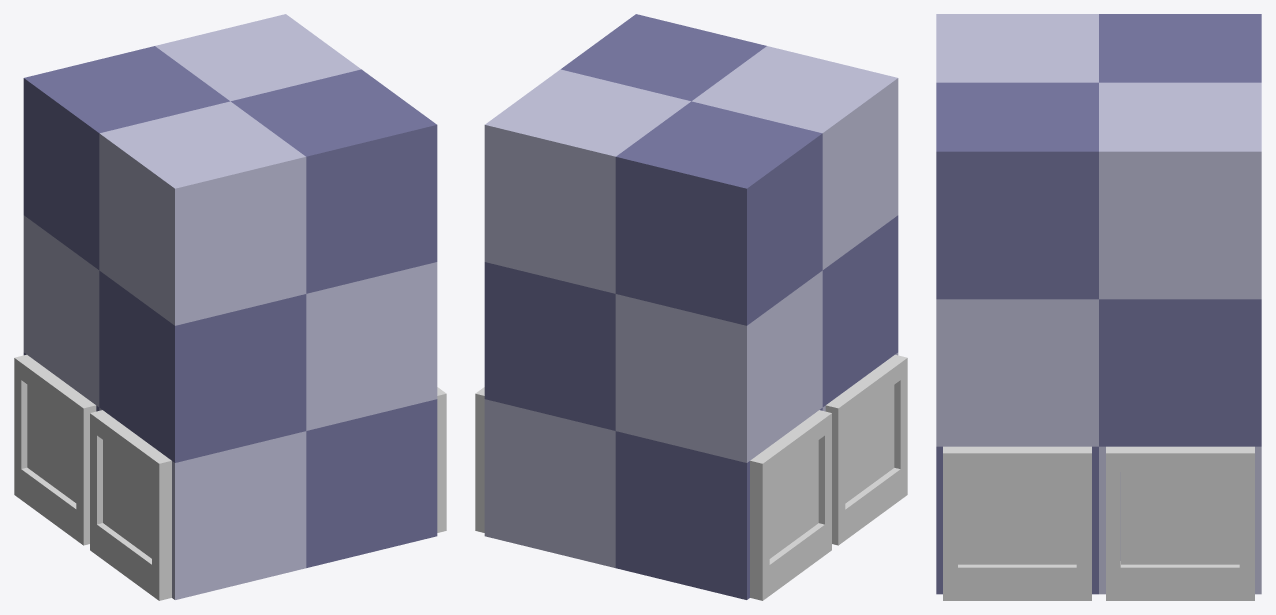
The model's file is unitmini.fbx.
3 views of the same model, side by side, from view 1: azimuth 30°, elevation 25°; view 2: azimuth 150°, elevation 25°; view 3: azimuth 270°, elevation 25° (orthographic). The views are drawn at different scales.
Visible parts, largest first — view 1: SmallStorage_StorageUnitMini; view 2: SmallStorage_StorageUnitMini; view 3: SmallStorage_StorageUnitMini.
Part boxes in pixels (x1=…): SmallStorage_StorageUnitMini: x1=14, y1=14, x2=446, y2=600; SmallStorage_StorageUnitMini: x1=475, y1=14, x2=907, y2=600; SmallStorage_StorageUnitMini: x1=936, y1=14, x2=1261, y2=600.
Bounding box in the file's own units: 439 × 600 × 400.
